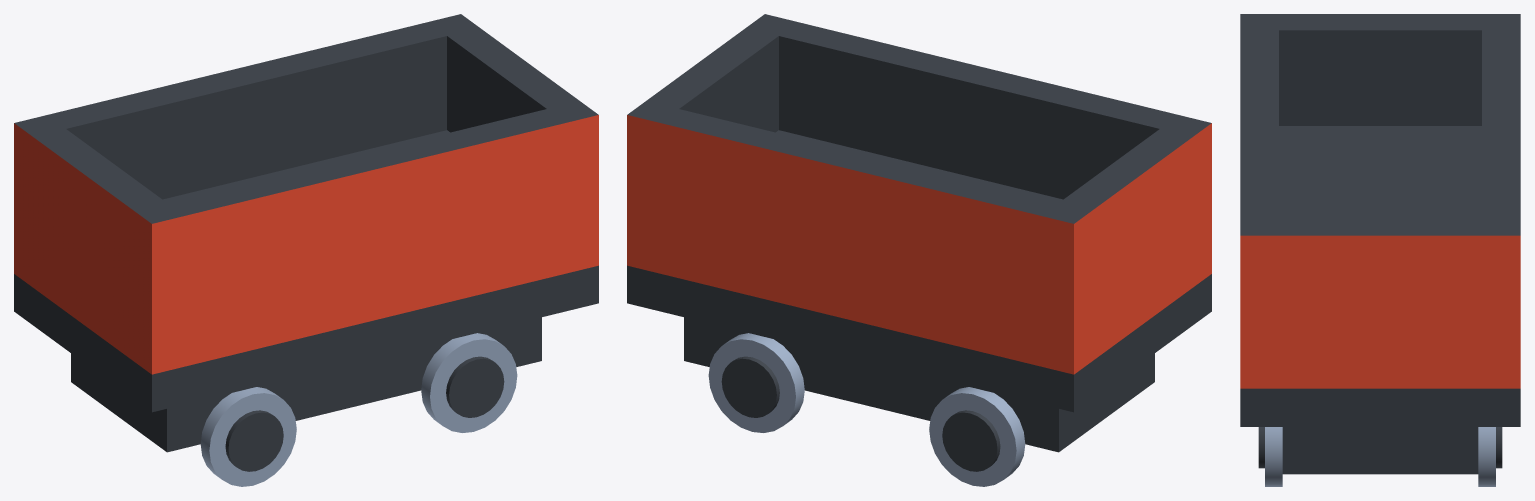
Rendered from trainTender.fbx.
3 renders of one model, left to right at view 1: azimuth 30°, elevation 25°; view 2: azimuth 150°, elevation 25°; view 3: azimuth 270°, elevation 25°, orthographic.
Visible parts, largest first — view 1: trainTender, wheel (×2); view 2: trainTender, wheel (×2); view 3: trainTender, wheel (×2).
Part boxes in pixels (left/top/right/bottom): trainTender: left=14, top=14, right=598, bottom=452; wheel (×2): left=200, top=333, right=517, bottom=486; trainTender: left=627, top=14, right=1211, bottom=452; wheel (×2): left=708, top=333, right=1025, bottom=486; trainTender: left=1240, top=14, right=1520, bottom=474; wheel (×2): left=1258, top=427, right=1502, bottom=486.
Bounding box in the file's own units: 2.48 × 1.58 × 1.33.
